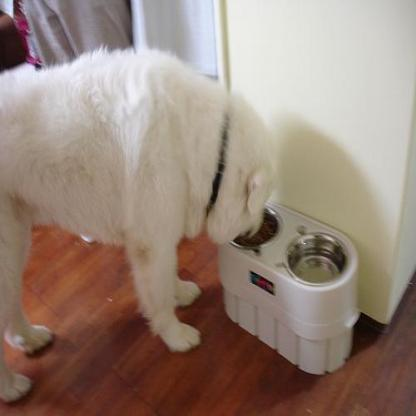Great_Pyrenees: (0, 46, 272, 402)
